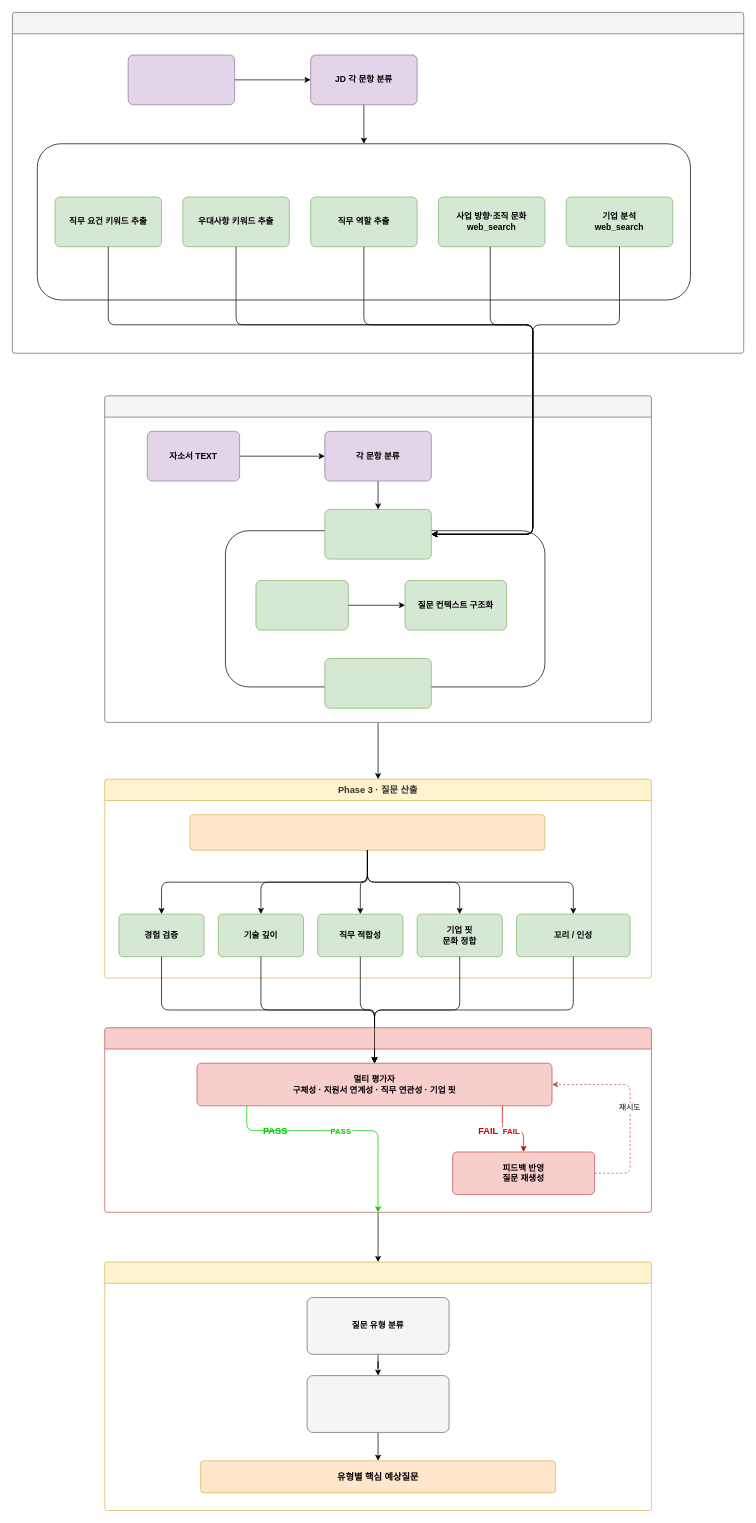
This 756x1523 diagram has some shape labels left out. Each missing label, with the box of its shape:
JD (직무기술서) TEXT: (127, 54, 235, 105)
JD 결과 input 자소서 분석 & 매칭: (255, 580, 348, 630)
Phase 1 · JD 분석: (12, 12, 744, 353)
Phase 2 · 자소서 분석: (104, 395, 651, 722)
Phase 4 · 평가-최적화 루프: (104, 1027, 651, 1212)
Phase 5 · 최종 출력: (104, 1261, 651, 1511)
우선순위 스코어 난이도 · 빈출도 직무 연관도: (306, 1375, 449, 1432)
자소서 TEXT 문항별 프롬프트 체이닝: (324, 509, 431, 559)
자소서 분석 어그리게이트: (324, 658, 431, 708)
질문 유형 오케스트레이션 소스 출처 × 질문 유형 조합으로 분기: (189, 814, 545, 850)
